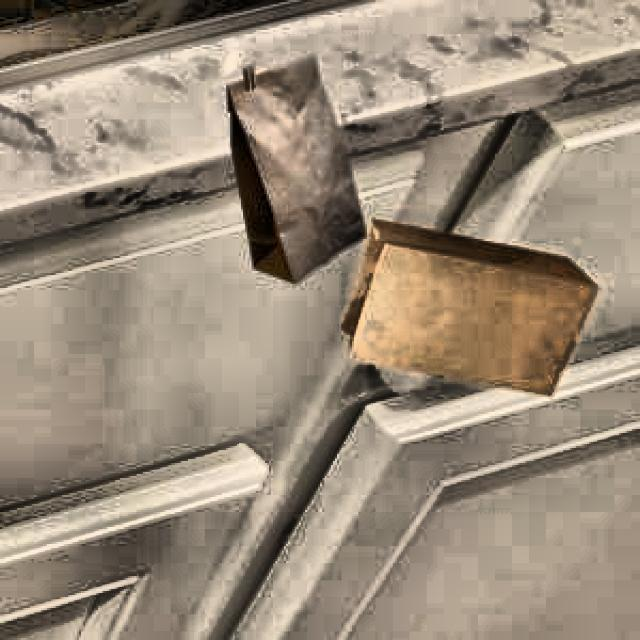Paper-bag: (324, 223, 600, 407), (202, 55, 373, 288)
